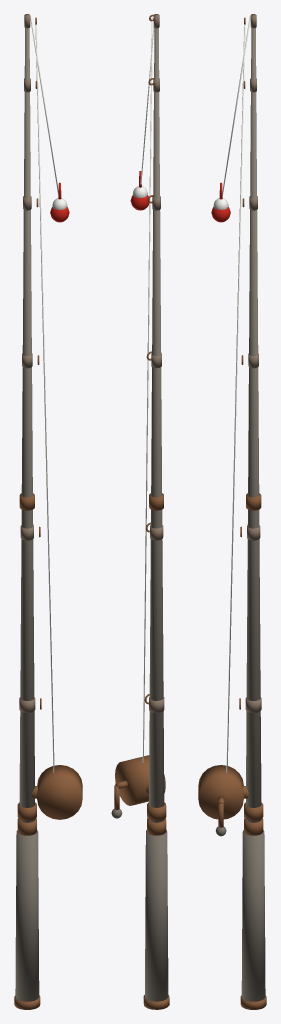
File: angelrute.training.glb
3 views of the same model, side by side, from view 1: azimuth 90°, elevation 25°; view 2: azimuth 210°, elevation 25°; view 3: azimuth 270°, elevation 25° (orthographic).
Parts seen in each view (by area): view 1: angelrute; view 2: angelrute; view 3: angelrute.
Part boxes in pixels (x1,y1,x2,y2): angelrute: [14, 14, 82, 1009]; angelrute: [111, 14, 169, 1009]; angelrute: [198, 14, 266, 1009].
Bounding box in the file's own units: 0.09 × 2.01 × 0.126.
